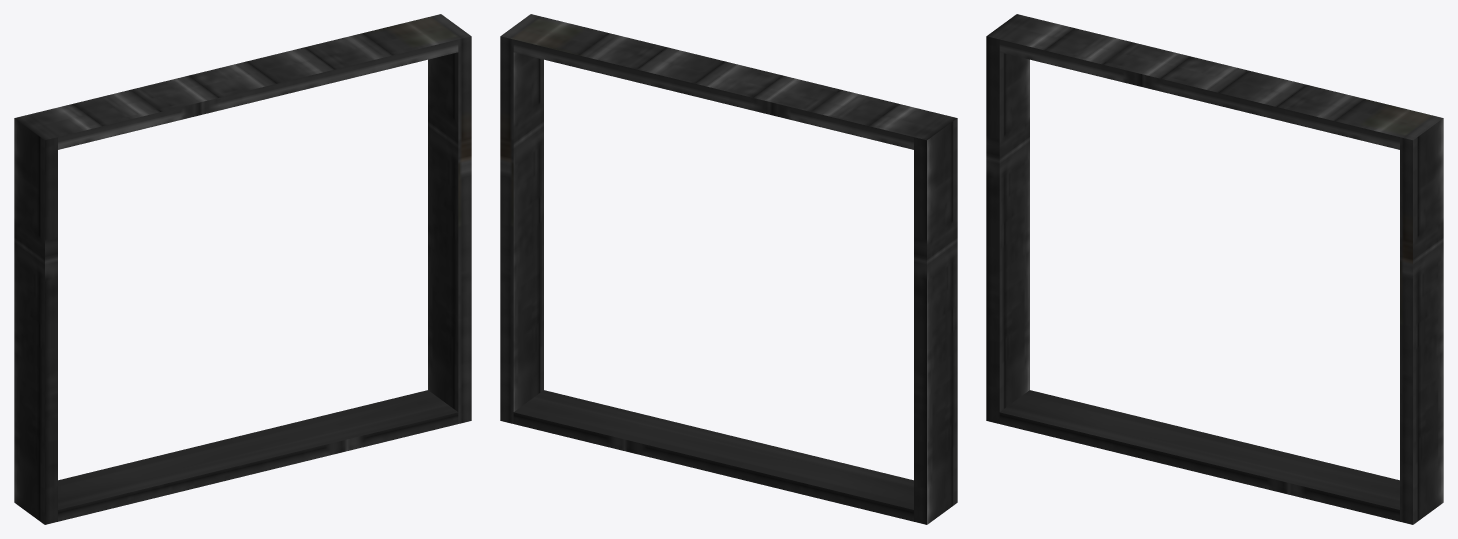
The model's file is House_Demo_010-col.glb.
The picture shows the model from 3 angles, left to right: view 1: azimuth 30°, elevation 25°; view 2: azimuth 150°, elevation 25°; view 3: azimuth 330°, elevation 25°; orthographic projection.
Parts seen in each view (by area): view 1: House_Demo_010-col; view 2: House_Demo_010-col; view 3: House_Demo_010-col.
Part boxes in pixels (box(x1,y1,x2,y2)): House_Demo_010-col: box(14, 14, 471, 524); House_Demo_010-col: box(500, 14, 957, 524); House_Demo_010-col: box(986, 14, 1443, 524).
Size of the model in its own units: 1.74 by 1.5 by 0.2151.
Materials: 1 (1 with a texture image).
